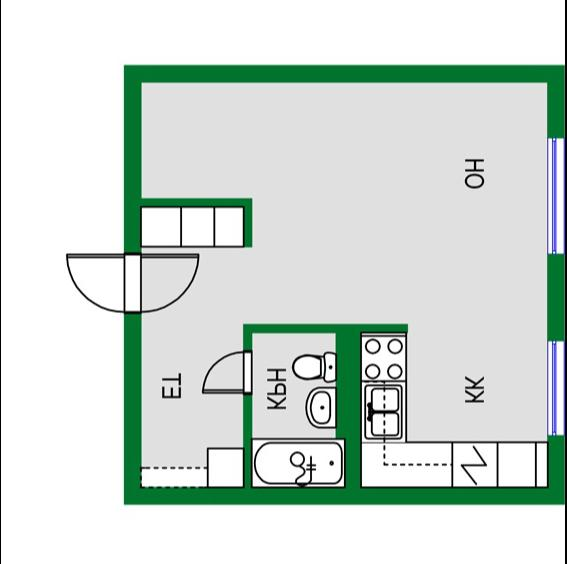door: (61, 248, 144, 316), (125, 250, 203, 320), (202, 348, 254, 399)
window: (542, 128, 566, 258), (546, 329, 566, 440)
